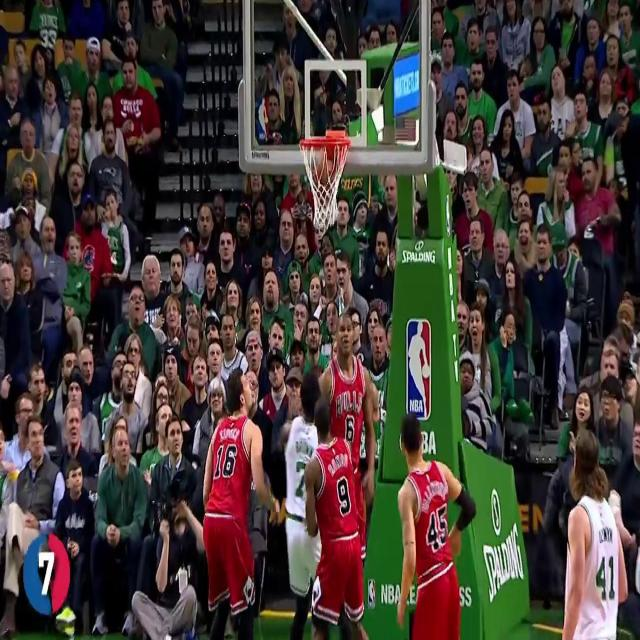basketball: (312, 156, 337, 202)
hoop: (300, 135, 352, 234), (300, 135, 351, 234)
